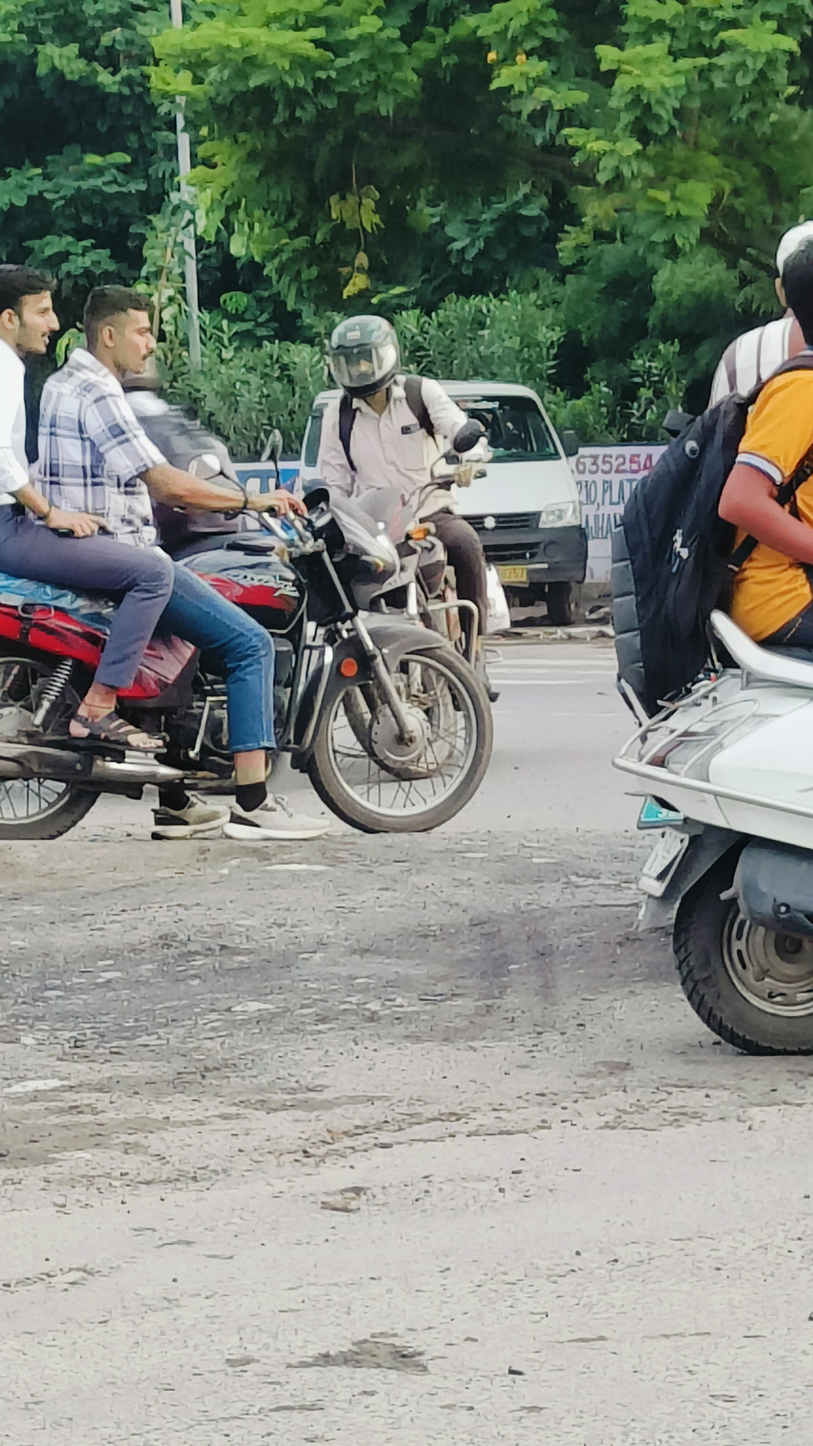BikeWithRider: (0, 243, 507, 850), (288, 307, 493, 796)
Helmet: (313, 306, 412, 407)
NoHelmet: (75, 273, 163, 394), (0, 252, 65, 363)
